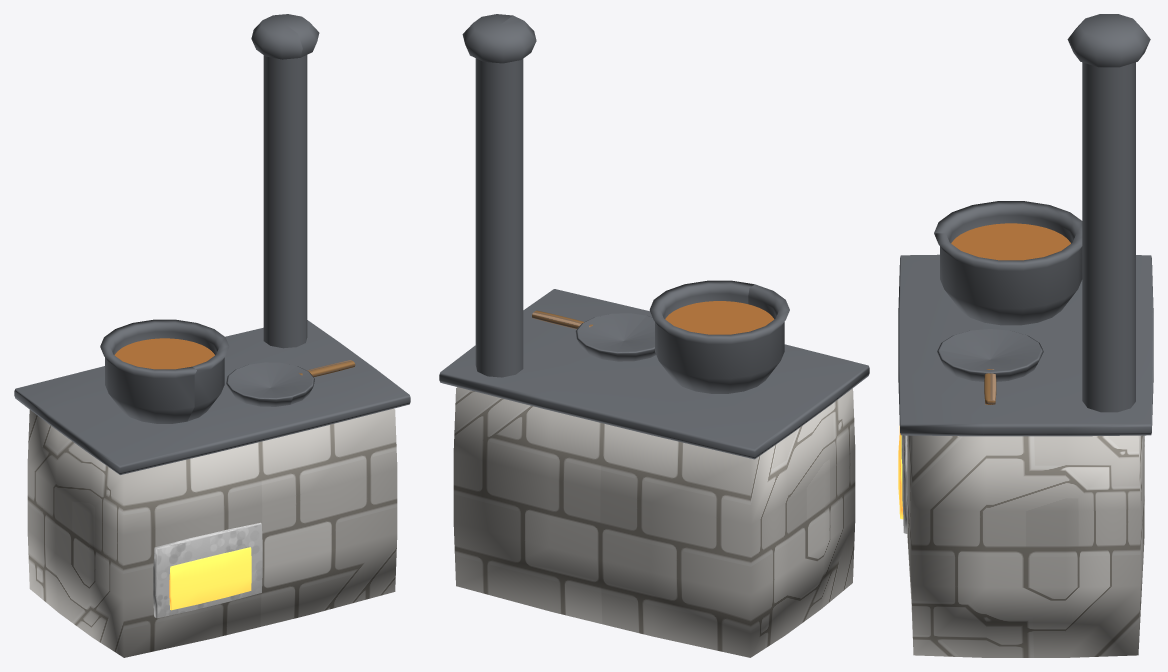
Rendered from station_stove.glb.
The picture shows the model from 3 angles, left to right: view 1: azimuth 30°, elevation 25°; view 2: azimuth 150°, elevation 25°; view 3: azimuth 270°, elevation 25°; orthographic projection. The views are drawn at different scales.
Visible parts, largest first — view 1: station_stove_stone_blocks, station_stove; view 2: station_stove_stone_blocks, station_stove; view 3: station_stove, station_stove_stone_blocks.
Boxes of the visible parts, bbox=[...] form: station_stove_stone_blocks: bbox=[27, 408, 397, 657]; station_stove: bbox=[14, 14, 410, 618]; station_stove_stone_blocks: bbox=[453, 387, 855, 657]; station_stove: bbox=[439, 14, 869, 459]; station_stove: bbox=[898, 14, 1153, 533]; station_stove_stone_blocks: bbox=[907, 435, 1144, 657].
Bounding box in the file's own units: 1.36 × 2.3 × 0.86.
6 materials, 3 textured.
